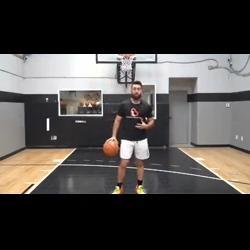BasketBall: (101, 136, 119, 157)
